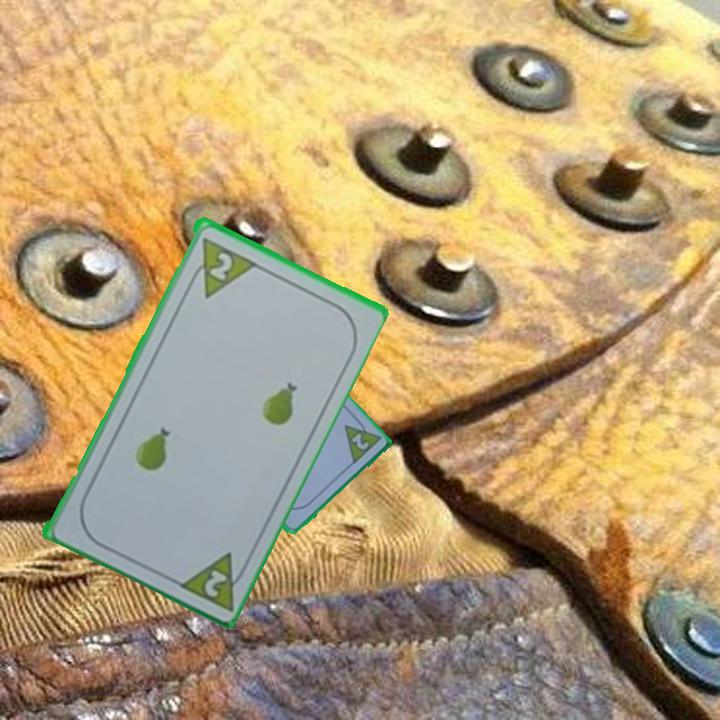2p: (172, 547, 252, 613), (205, 247, 235, 283), (347, 429, 371, 453)
